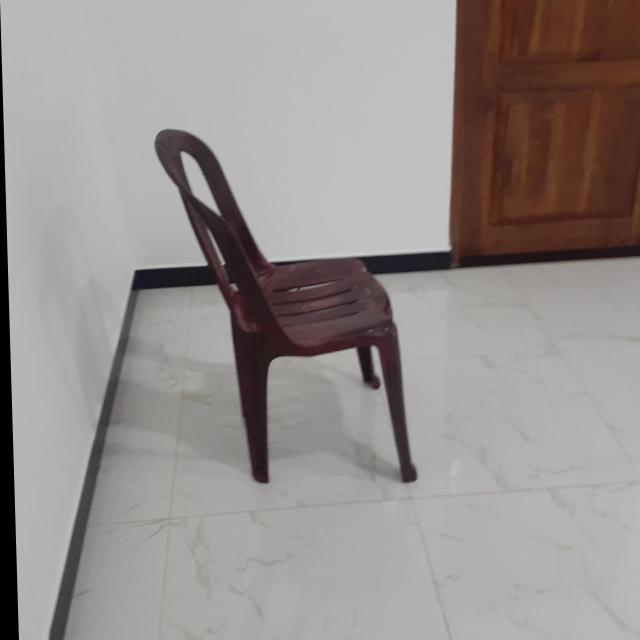Chair: (154, 128, 415, 486)
